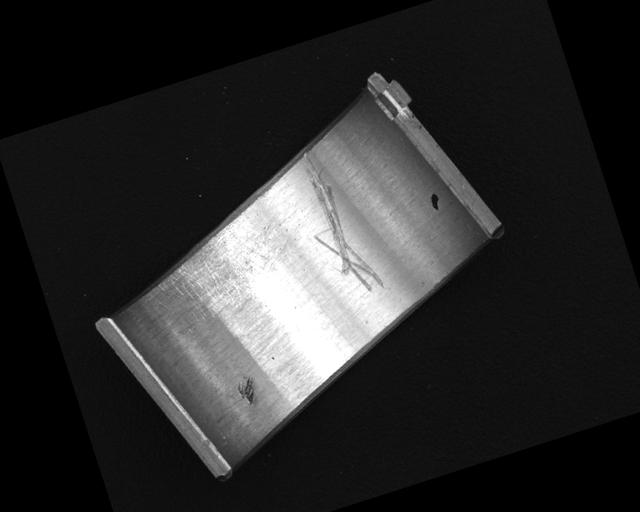blot: (428, 192, 443, 213)
bruise: (233, 375, 261, 409)
nick: (288, 139, 386, 304)
scratch: (143, 207, 295, 337)
